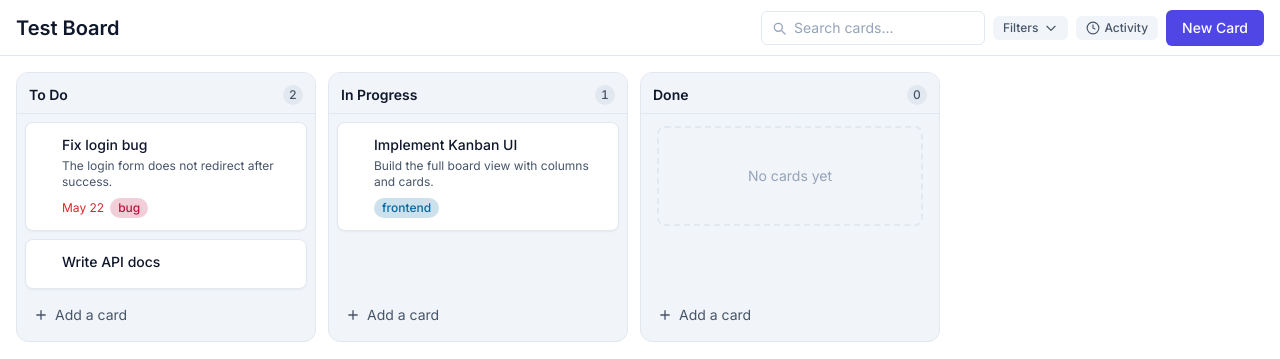
Test case: BoardView search and filter › clicking a label chip hides cards without that label
The width and height of the screenshot is (1280, 359).
Open the Filters panel
Click the button "Filters". click: (1031, 28)
box: [993, 16, 1068, 40]
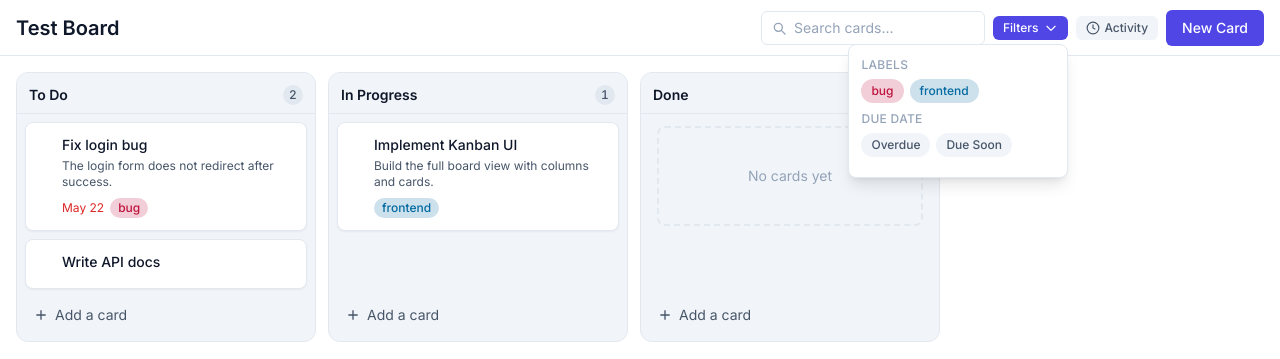
Scope to filter panel to avoid matching label chips on card tiles
Click the button "bug". click: (882, 90)
box: [861, 78, 904, 102]
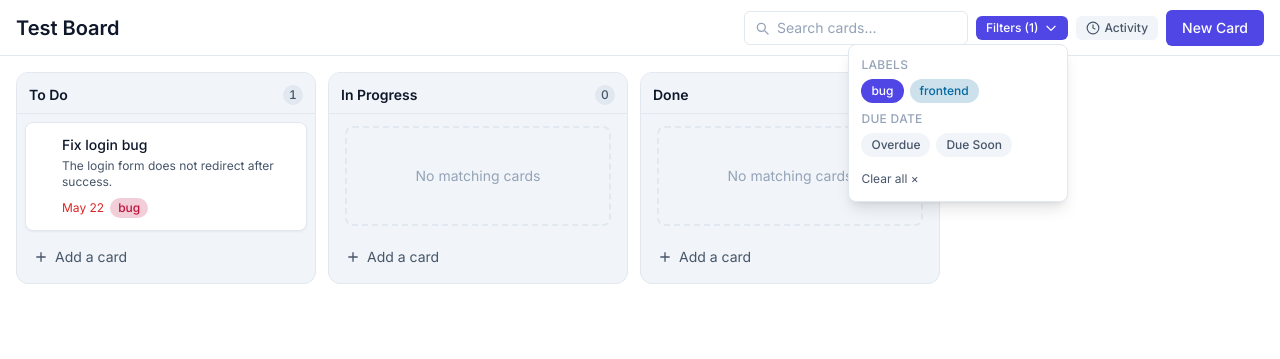
Check: the text "Fix login bug" is shown, box [62, 136, 147, 153]
Check: the button "Write API docs" is gone
Check: the button "Implement Kanban UI" is gone
